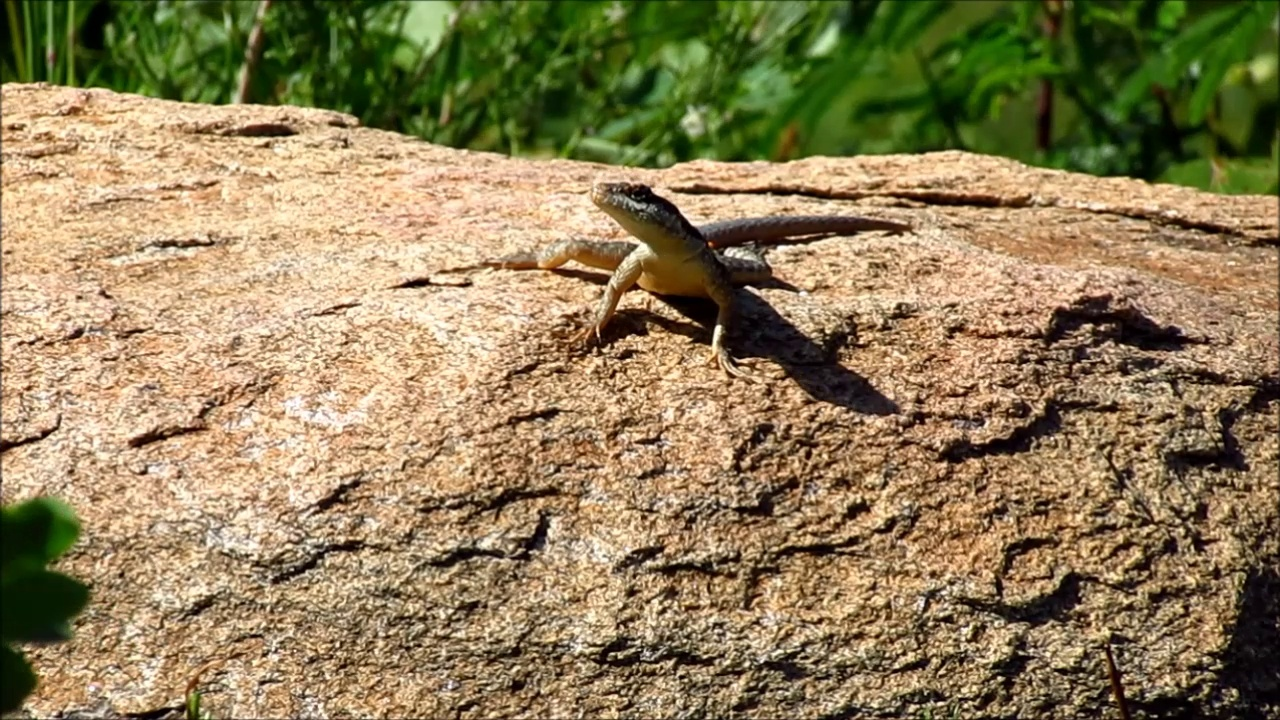body: (479, 213, 910, 388)
head: (590, 180, 687, 239)
